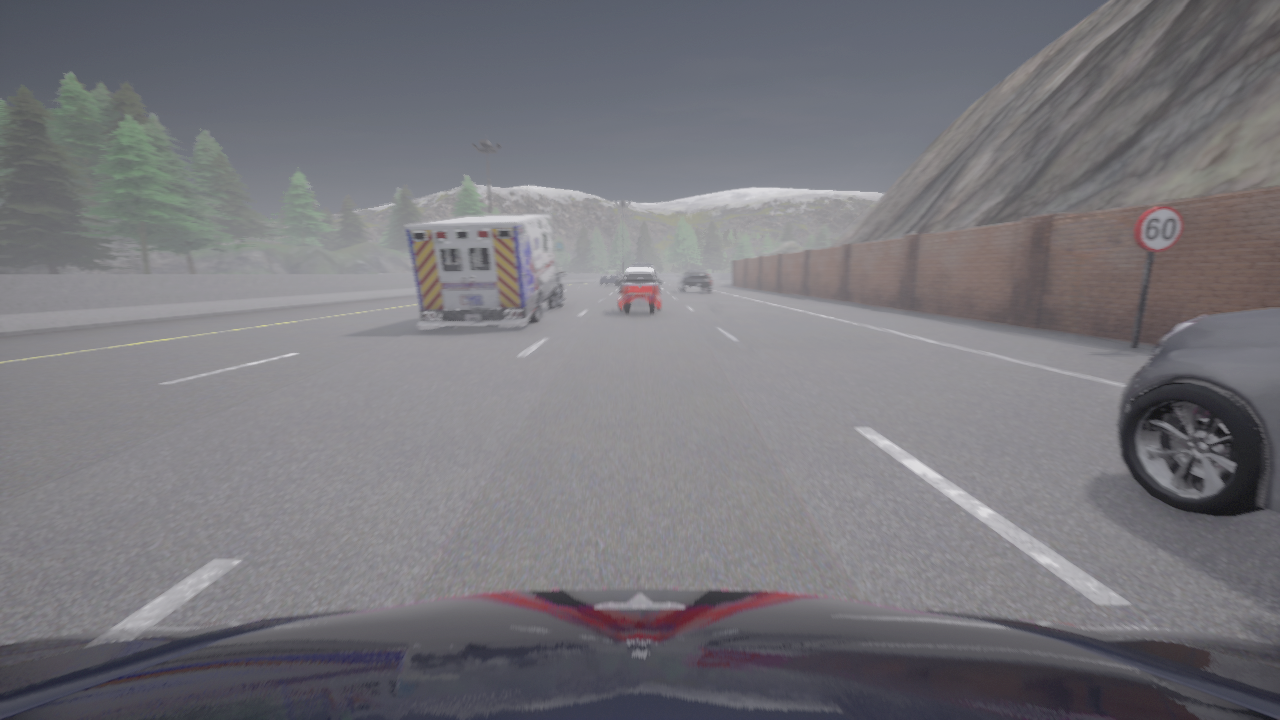cyclist: (0, 588, 1279, 719), (1117, 308, 1279, 517), (405, 214, 564, 328), (617, 268, 662, 314), (676, 268, 711, 292), (547, 274, 564, 310), (628, 263, 658, 280), (599, 271, 623, 286)
